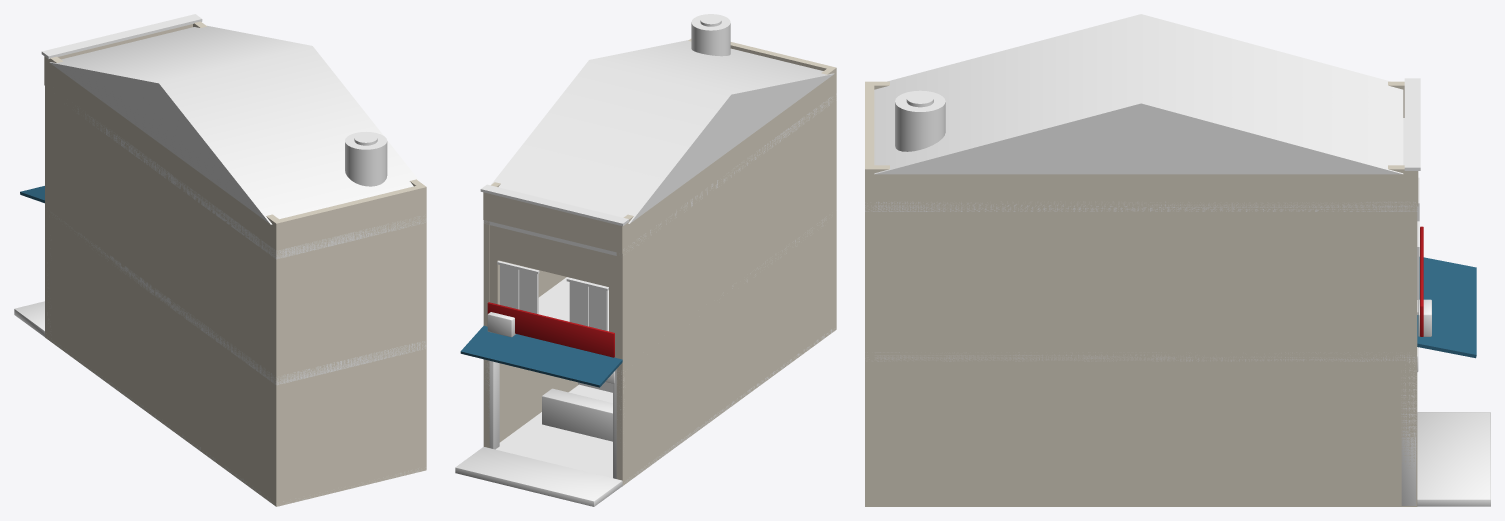
Rendered from Ruko_C.fbx.
3 renders of one model, left to right at view 1: azimuth 30°, elevation 25°; view 2: azimuth 150°, elevation 25°; view 3: azimuth 270°, elevation 25°, orthographic. The views are drawn at different scales.
Parts seen in each view (by area): view 1: Ruko_C_Mesh; view 2: Ruko_C_Mesh; view 3: Ruko_C_Mesh.
Part boxes in pixels (bbox=[...]): Ruko_C_Mesh: bbox=[14, 14, 426, 506]; Ruko_C_Mesh: bbox=[455, 14, 836, 506]; Ruko_C_Mesh: bbox=[865, 14, 1490, 506].
Bounding box in the file's own units: 4.6 × 9.7 × 13.6.
